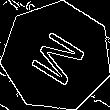M_SE: (23, 24, 90, 89)
